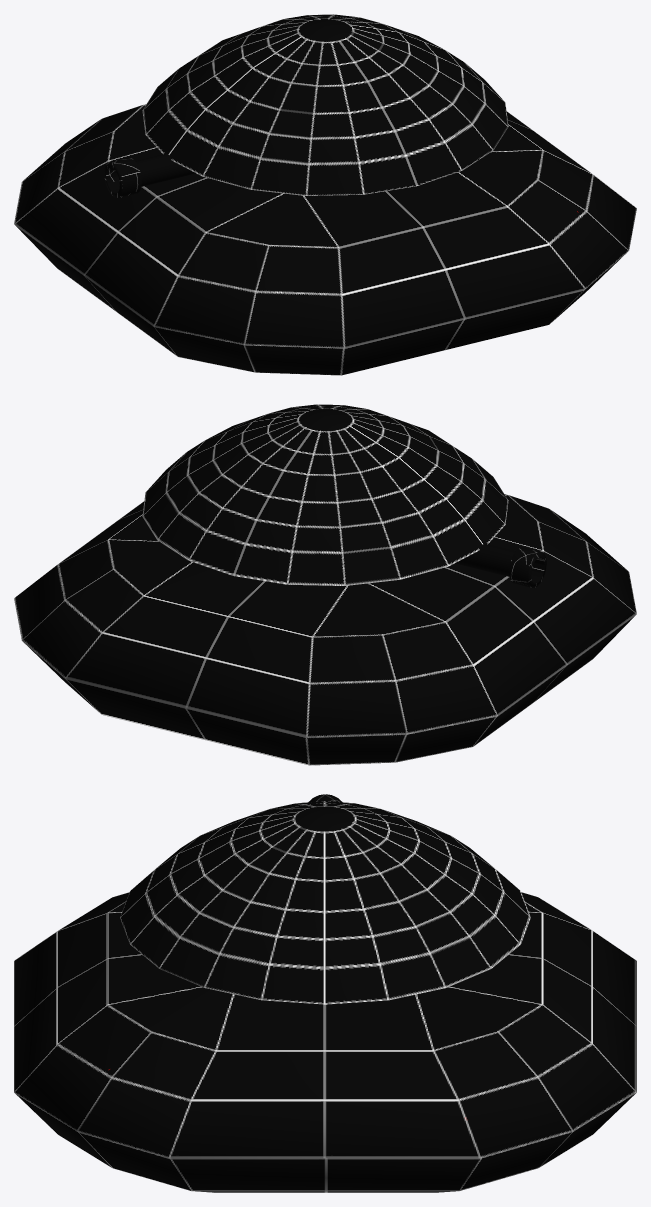
File: UFO.fbx
3 views of the same model, one above another, from view 1: azimuth 30°, elevation 25°; view 2: azimuth 150°, elevation 25°; view 3: azimuth 270°, elevation 25° (orthographic). The views are drawn at different scales.
Parts seen in each view (by area): view 1: pCylinder3, pCylinder2; view 2: pCylinder3, pCylinder2; view 3: pCylinder3.
Part boxes in pixels (<box>): pCylinder3: <box>14,14,636,375</box>; pCylinder2: <box>104,153,195,198</box>; pCylinder3: <box>14,404,636,765</box>; pCylinder2: <box>455,543,546,588</box>; pCylinder3: <box>14,801,636,1192</box>.
Bounding box in the file's own units: 1.66 × 0.902 × 1.66.
